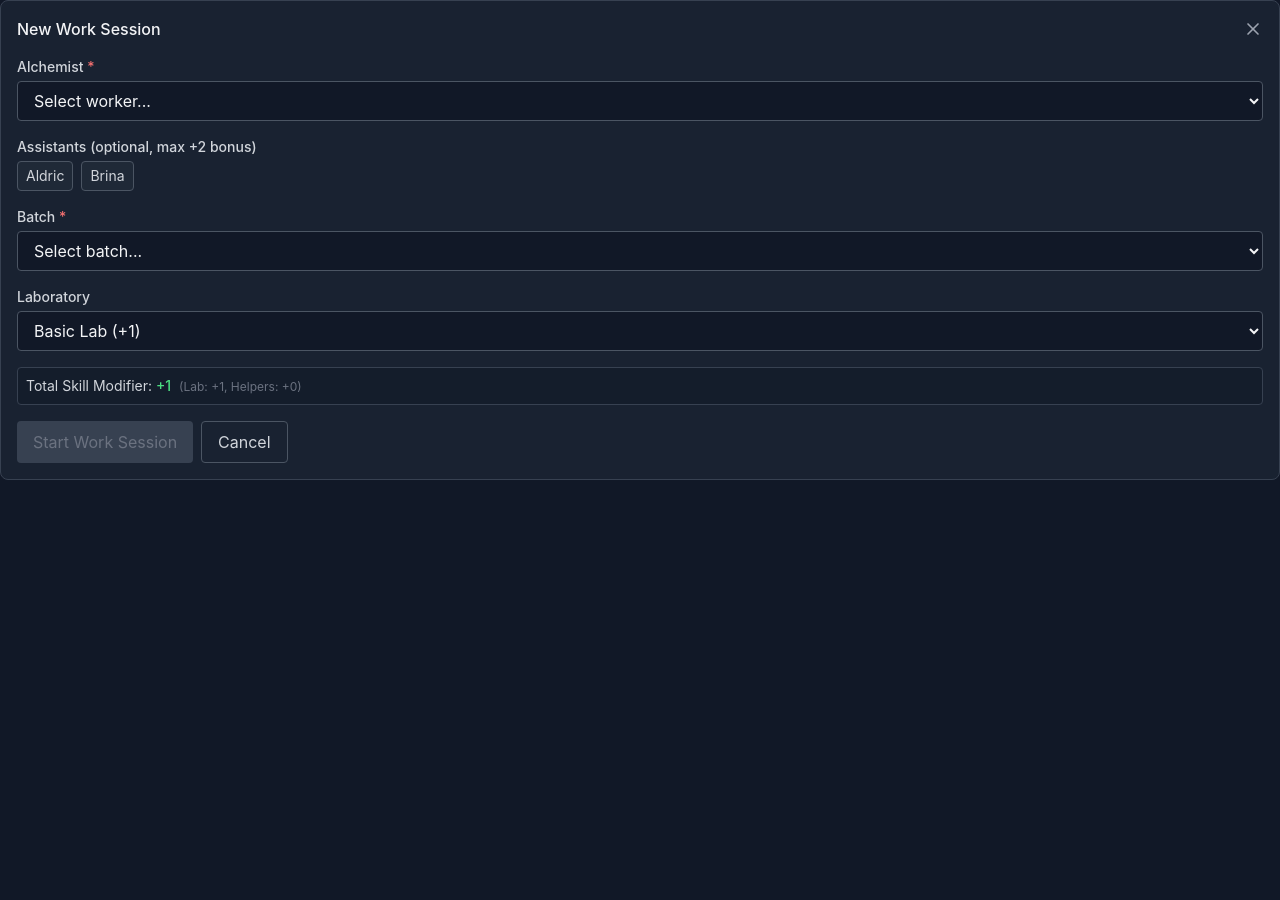
it: AlchemyTaskForm › interactions › enables submit button when required fields are filled
Fill required fields
Select "Aldric" in the dropdown with test id "leader-select" at (640, 101), box [17,81,1263,121]
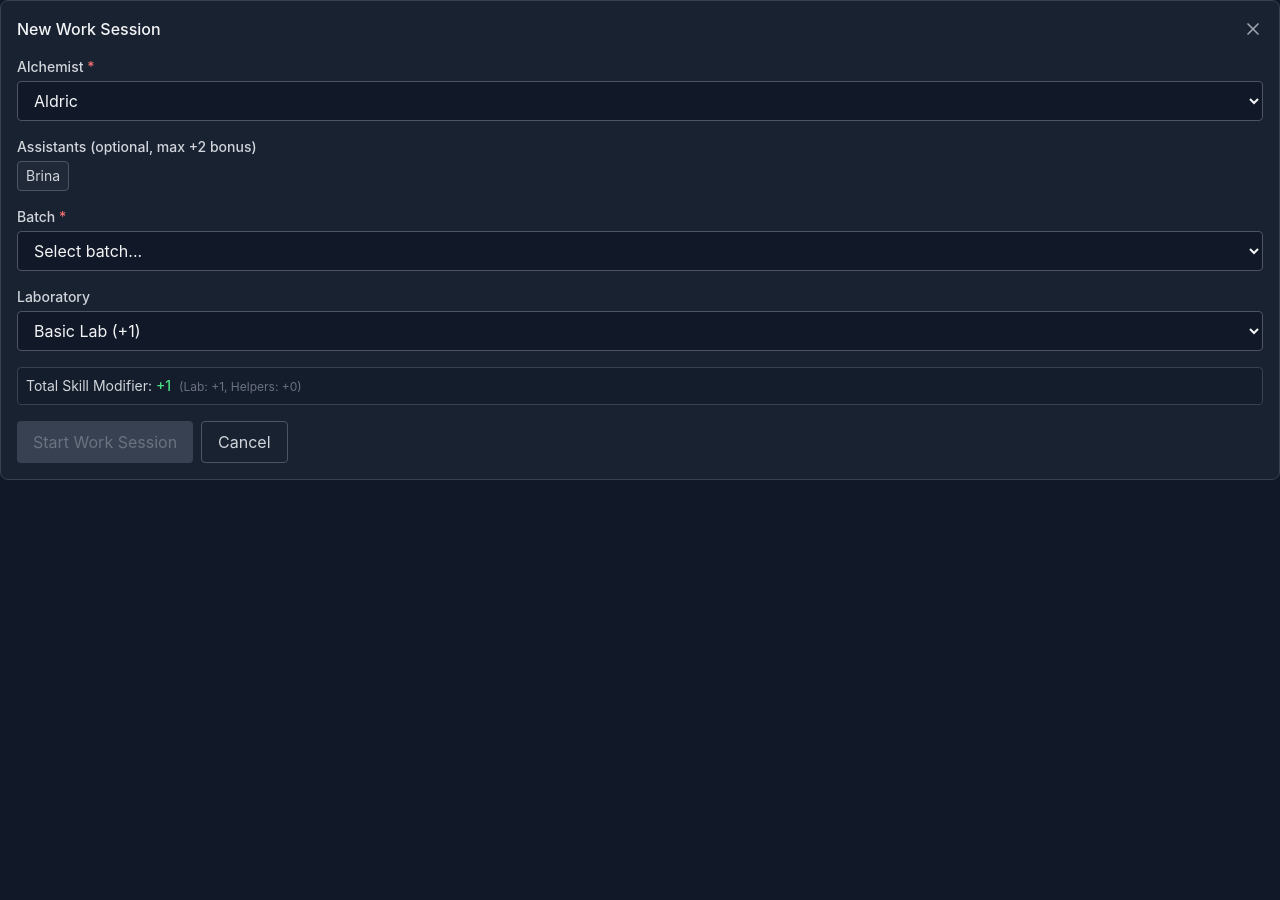
Select "Healing Potion (5/10 PP)" in the dropdown with test id "batch-select" at (640, 251), box [17,231,1263,271]
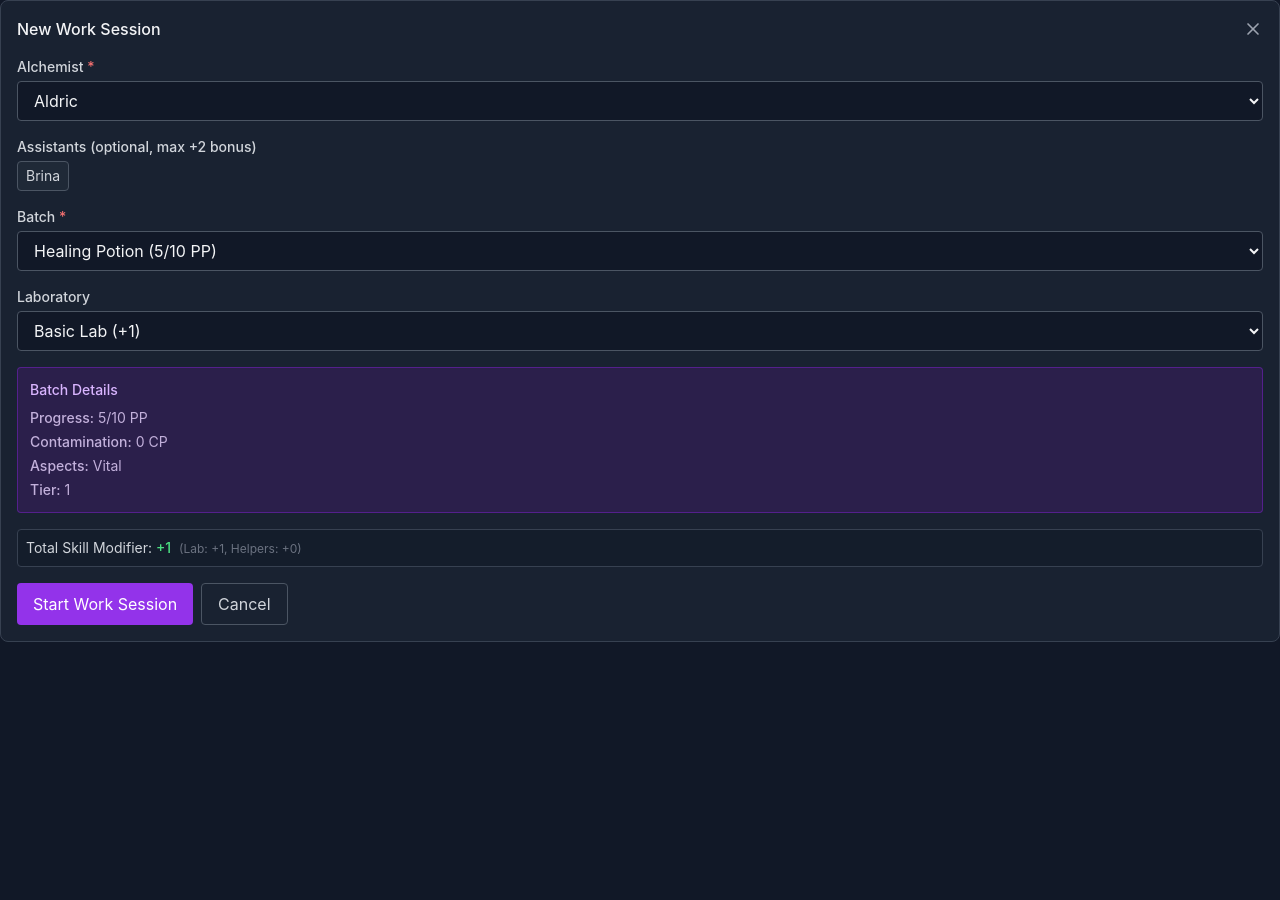
Check: the button with test id "submit-button" is enabled, box [17,583,193,625]
